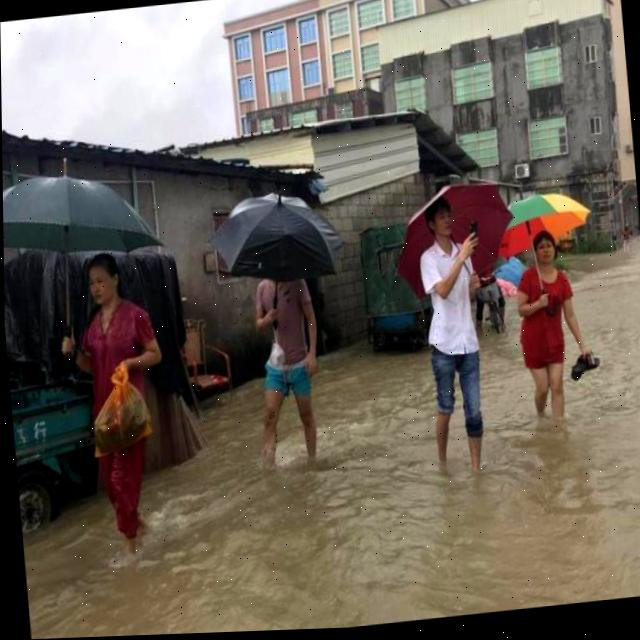civilian: (47, 233, 181, 571), (411, 191, 511, 491), (239, 251, 329, 482), (510, 213, 588, 437)
